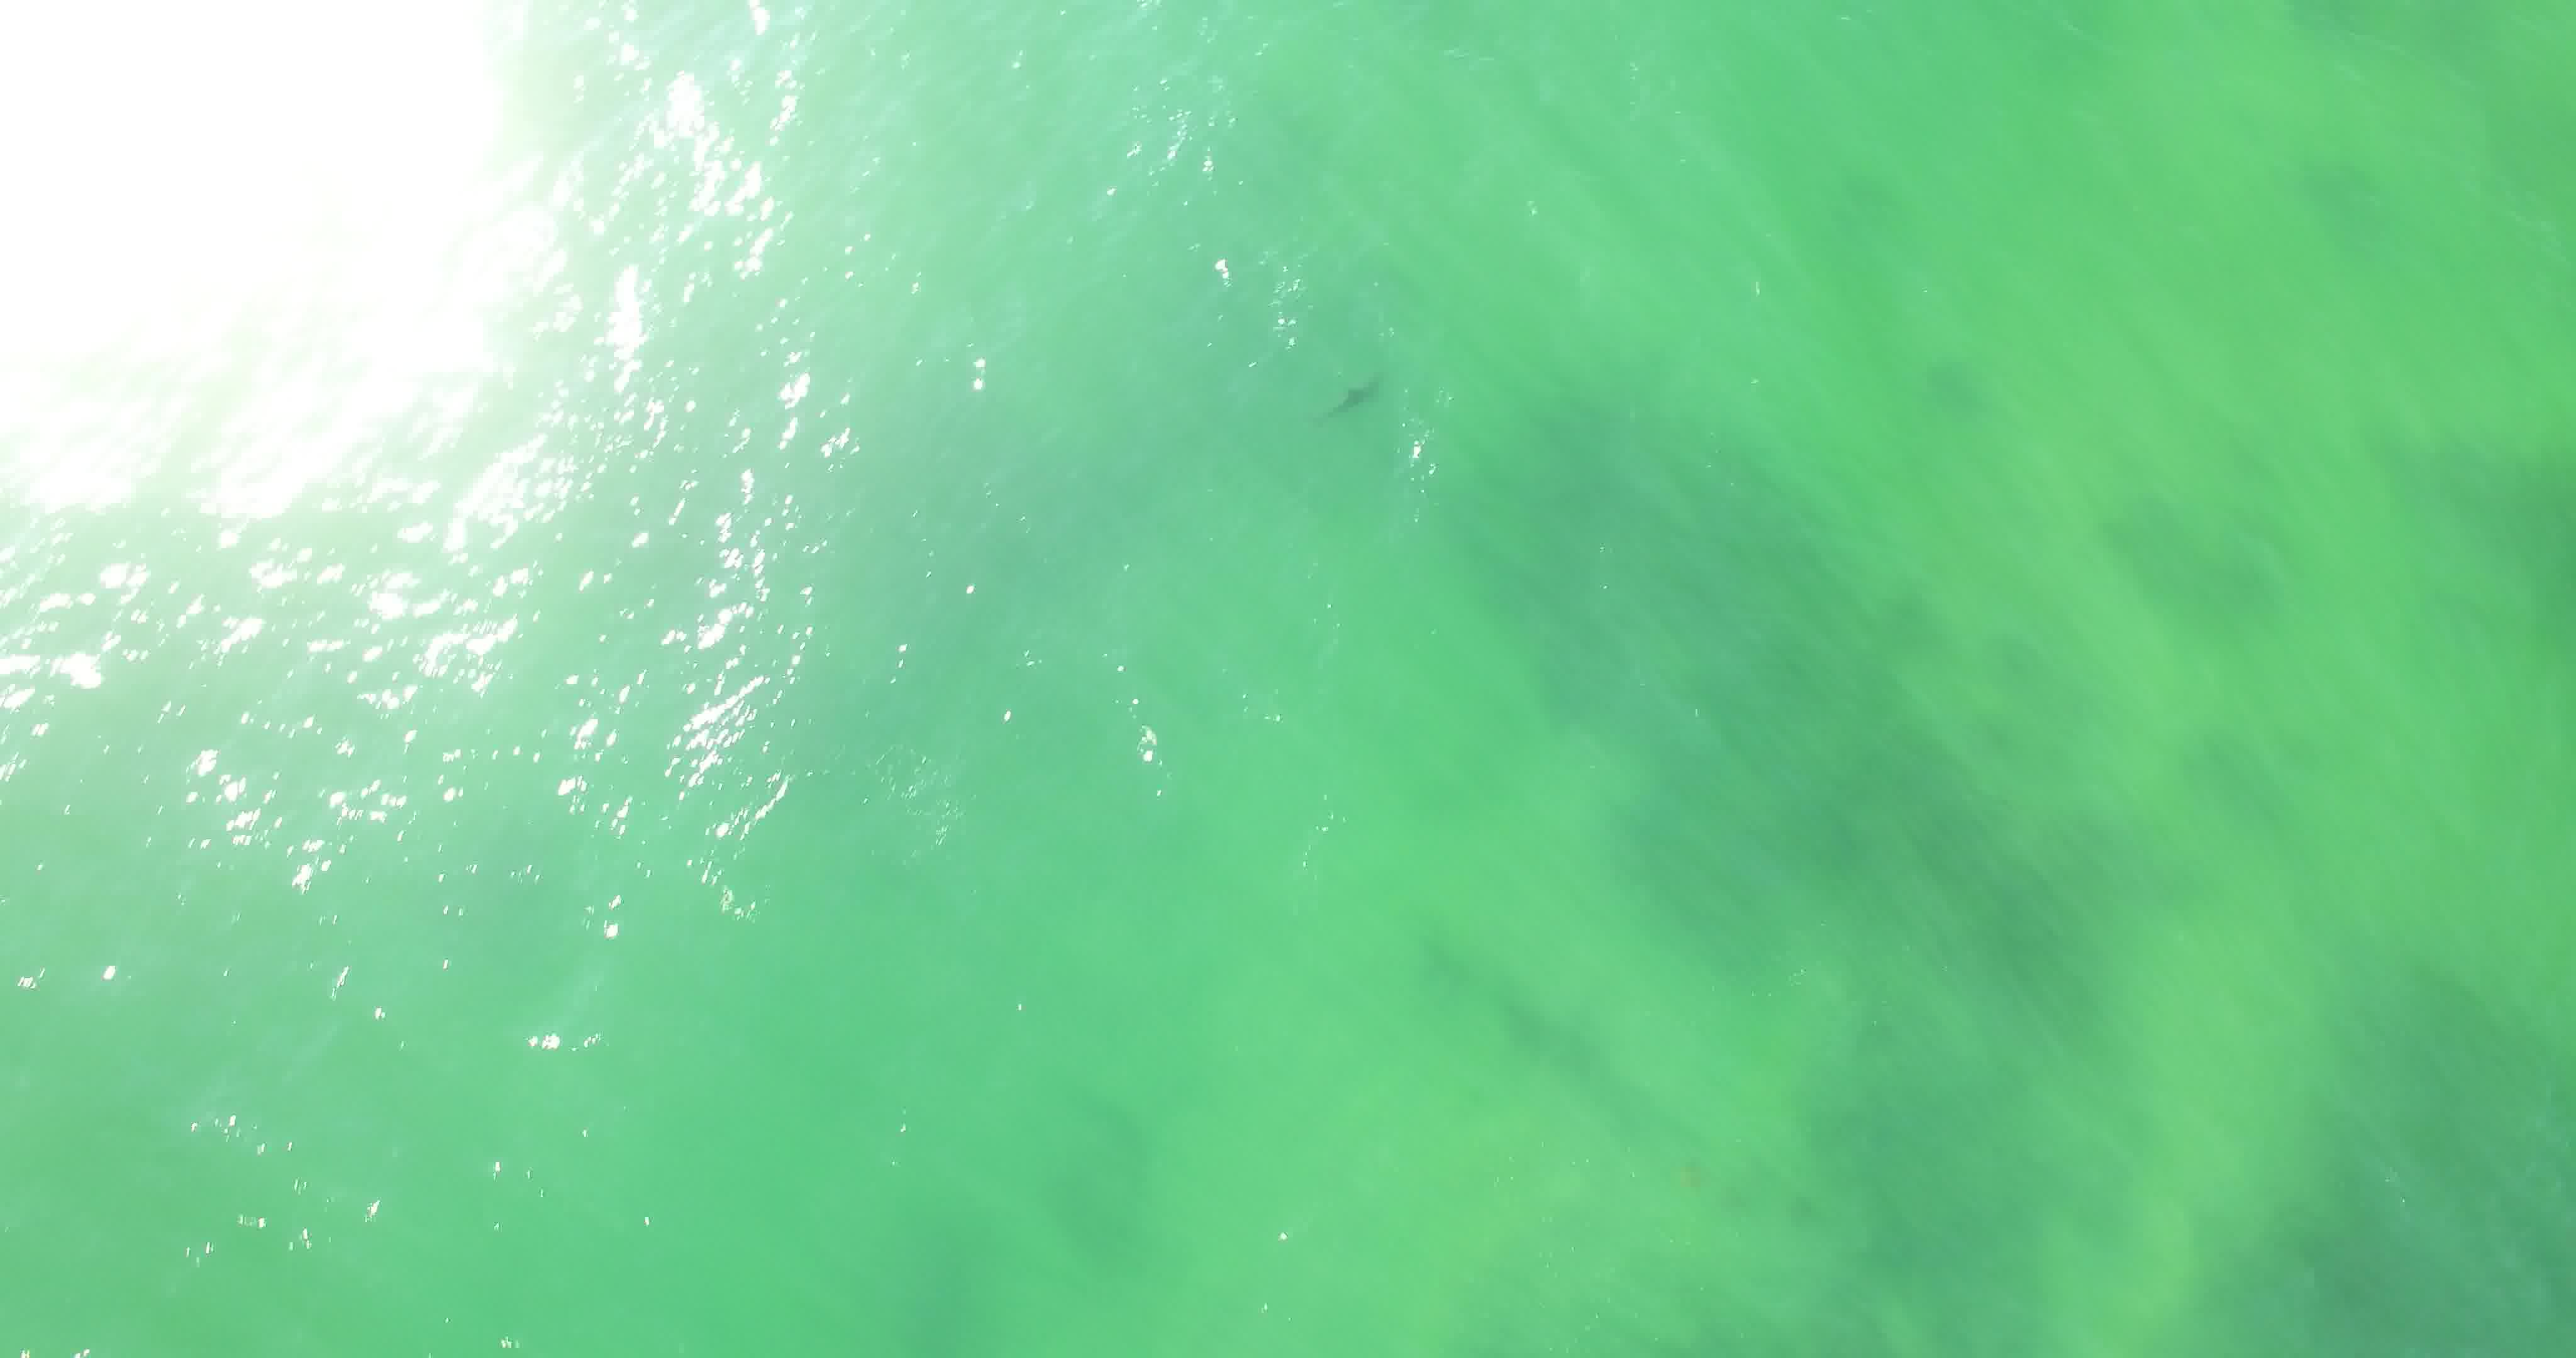dolphin: (1295, 339, 1404, 445)
